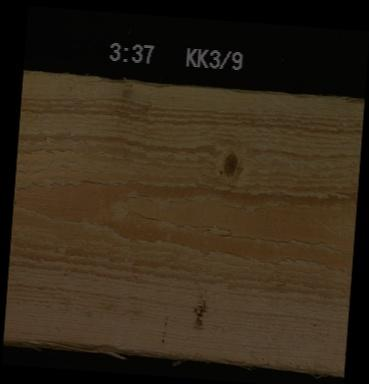sound_knot: (218, 149, 239, 176)
wave: (2, 342, 343, 368), (36, 73, 363, 98)
